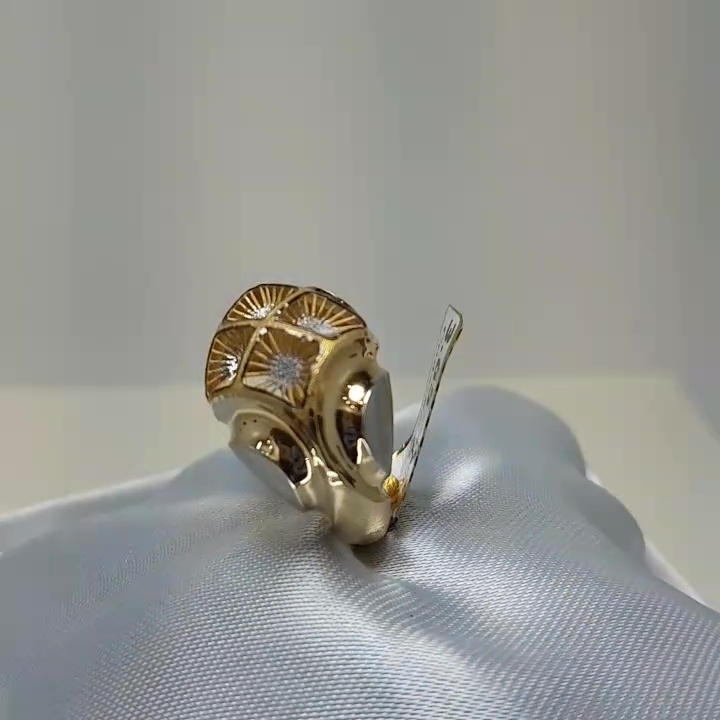Ring 2: (172, 237, 446, 559)
